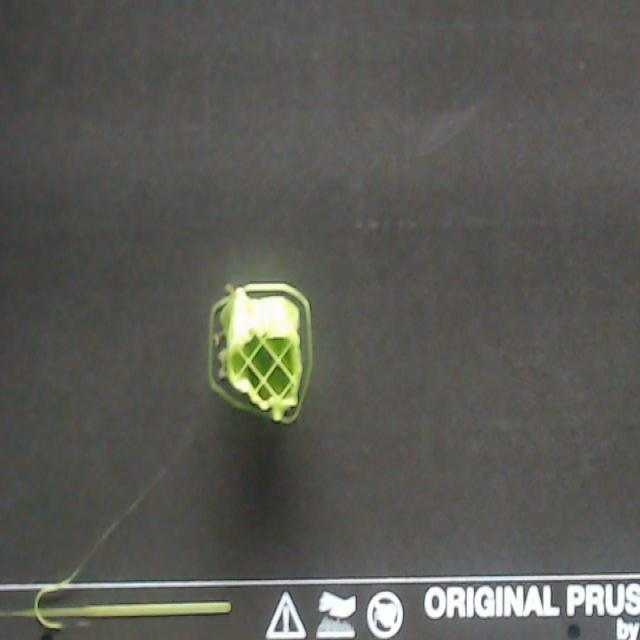mistake: (0, 567, 231, 635), (213, 333, 226, 347), (225, 285, 234, 293)
